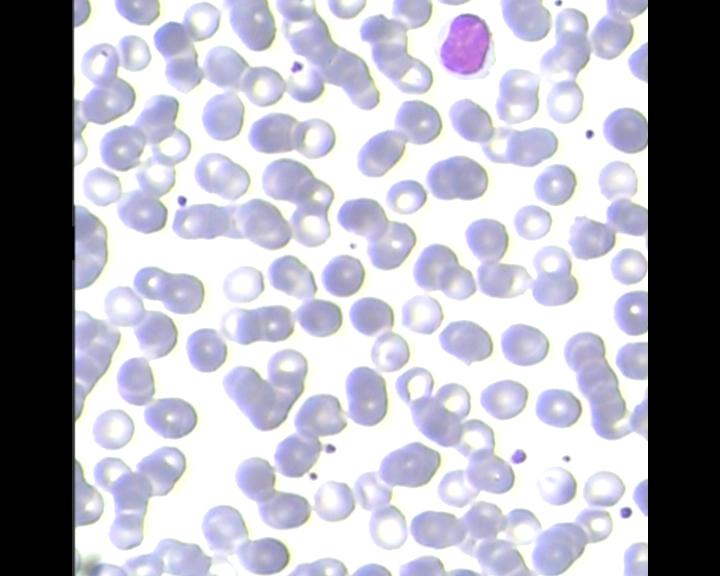lymp: (428, 13, 499, 85)
